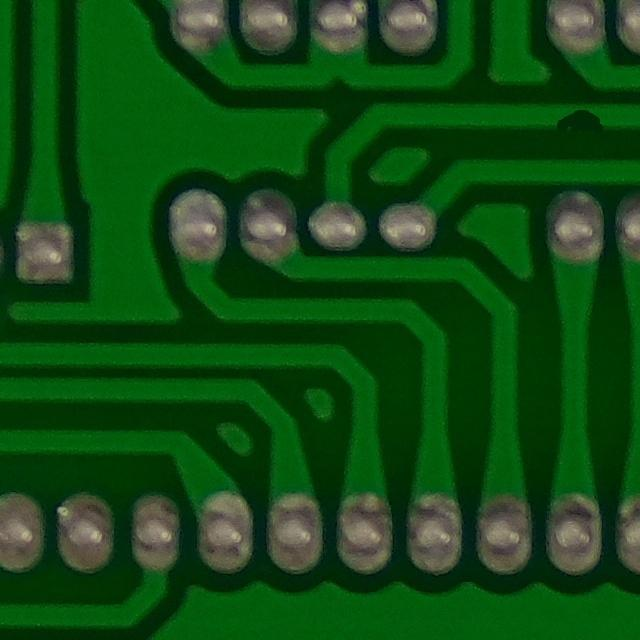mouse_bite: (537, 89, 616, 146)
